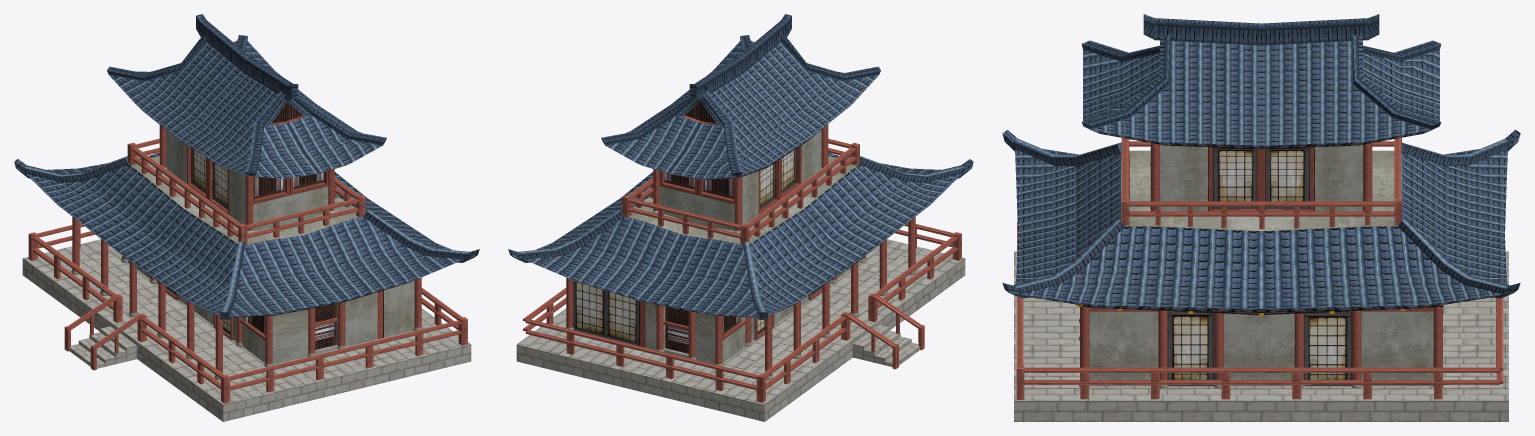
Rendered from temple-hall.glb.
3 views of the same model, side by side, from view 1: azimuth 30°, elevation 25°; view 2: azimuth 150°, elevation 25°; view 3: azimuth 270°, elevation 25° (orthographic). The views are drawn at different scales.
Parts seen in each view (by area): view 1: TempleHall; view 2: TempleHall; view 3: TempleHall.
Boxes of the visible parts, x1,y1,x2,y2 form: TempleHall: (14,14,479,421); TempleHall: (508,14,973,421); TempleHall: (1002,14,1520,421).
Size of the model in its own units: 16.41 by 14.1 by 20.
9 materials, 9 textured.
